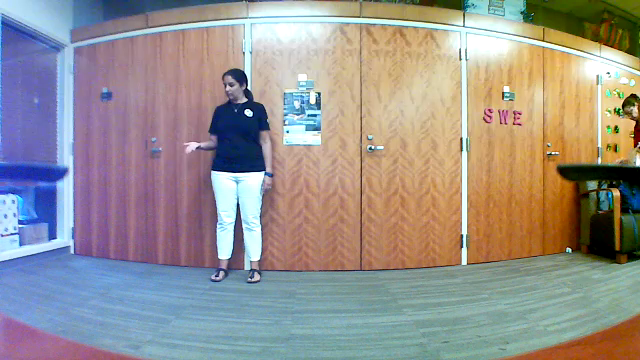land: (174, 135, 206, 159)
